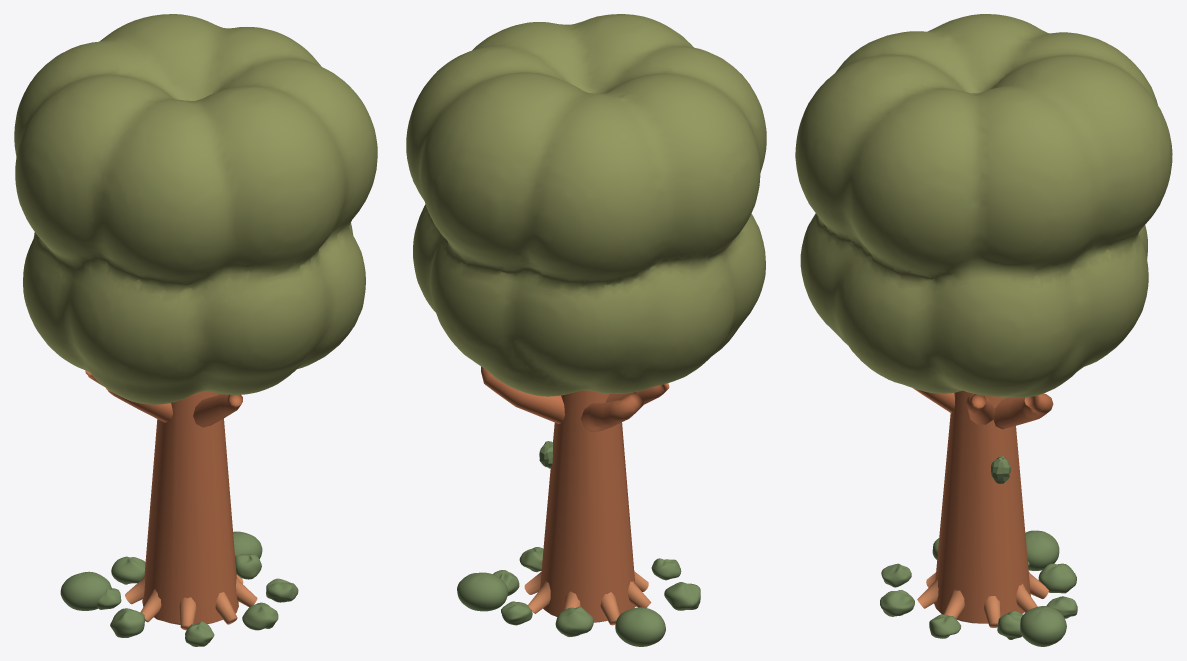
File: 13-small-tree.glb
3 renders of one model, left to right at view 1: azimuth 30°, elevation 25°; view 2: azimuth 150°, elevation 25°; view 3: azimuth 270°, elevation 25°, orthographic.
Visible parts, largest first — view 1: Canopy, Trunk, TuftStone0, BranchB, Tuft4, Tuft2, Tuft6, Tuft7, BranchL, TuftStone1, Tuft0, Tuft5; view 2: Canopy, Trunk, BranchFR, TuftStone1, TuftStone0, BranchFL, Tuft2, Tuft4, Tuft1, Tuft5, BranchL; view 3: Canopy, Trunk, TuftStone1, BranchFR, TuftStone0, Tuft2, Tuft6, BranchR, Tuft7, Tuft0, Tuft5.
Part boxes in pixels (x1,y1,x2,y2): Canopy: (14,14,377,404); Trunk: (142,391,238,624); TuftStone0: (60,571,111,610); BranchB: (193,394,242,427); Tuft4: (110,608,144,637); Tuft2: (111,556,145,584); Tuft6: (242,602,278,630); Tuft7: (266,578,298,602); BranchL: (106,388,172,422); TuftStone1: (233,531,262,558); Tuft0: (235,554,261,579); Tuft5: (185,621,214,646); Canopy: (406,14,766,396); Trunk: (540,390,635,621); BranchFR: (481,366,564,423); TuftStone1: (457,572,507,611); TuftStone0: (615,607,665,646); BranchFL: (581,392,644,431); Tuft2: (555,606,593,637); Tuft4: (664,582,700,610); Tuft1: (501,601,532,625); Tuft5: (651,558,681,580); BranchL: (605,383,669,404); Canopy: (795,14,1172,397); Trunk: (934,390,1030,623); TuftStone1: (1020,606,1066,646); BranchFR: (993,393,1053,429); TuftStone0: (1025,530,1059,570); Tuft2: (1038,563,1076,593); Tuft6: (880,590,914,616); BranchR: (966,393,995,424); Tuft7: (929,614,961,638); Tuft0: (997,610,1022,639); Tuft5: (881,563,911,587).
Size of the model in its own units: 2.1 by 3.47 by 2.15.
